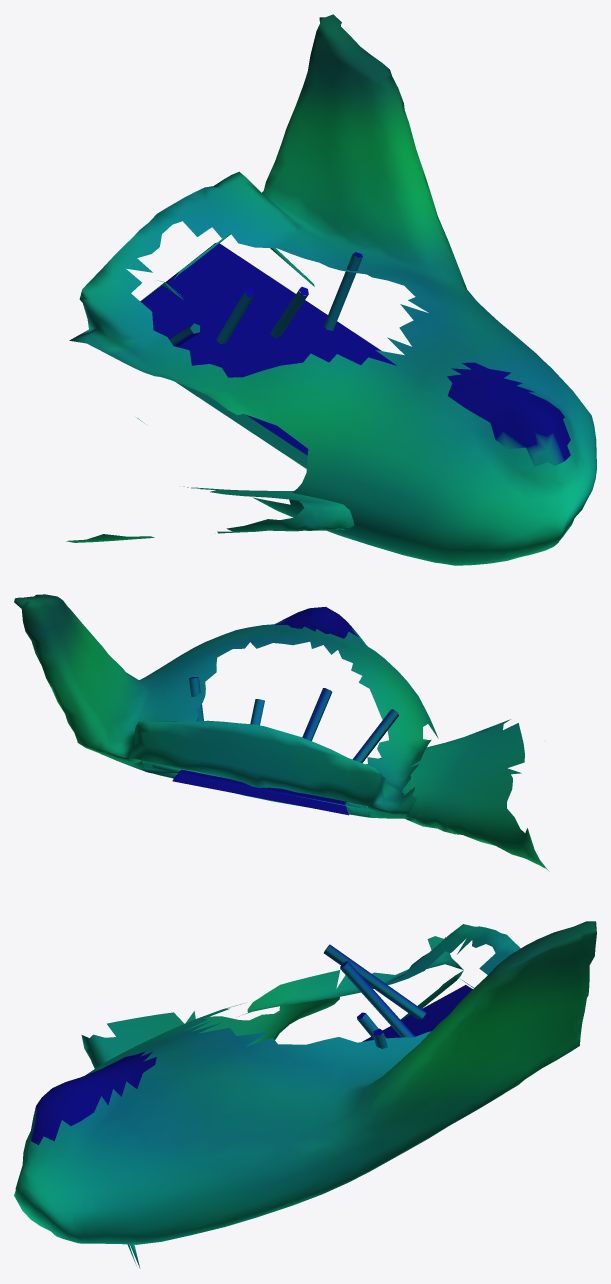
The model's file is lifeboatcrashed.glb.
3 views of the same model, one above another, from view 1: azimuth 30°, elevation 25°; view 2: azimuth 150°, elevation 25°; view 3: azimuth 270°, elevation 25° (orthographic). The views are drawn at different scales.
Visible parts, largest first — view 1: lod0; view 2: lod0; view 3: lod0.
Boxes of the visible parts, x1=… form: lod0: x1=66, y1=14, x2=596, y2=565; lod0: x1=14, y1=594, x2=549, y2=871; lod0: x1=14, y1=921, x2=596, y2=1268.
Size of what is drawn, in the model's own units: 4.5 by 3.16 by 4.51.
